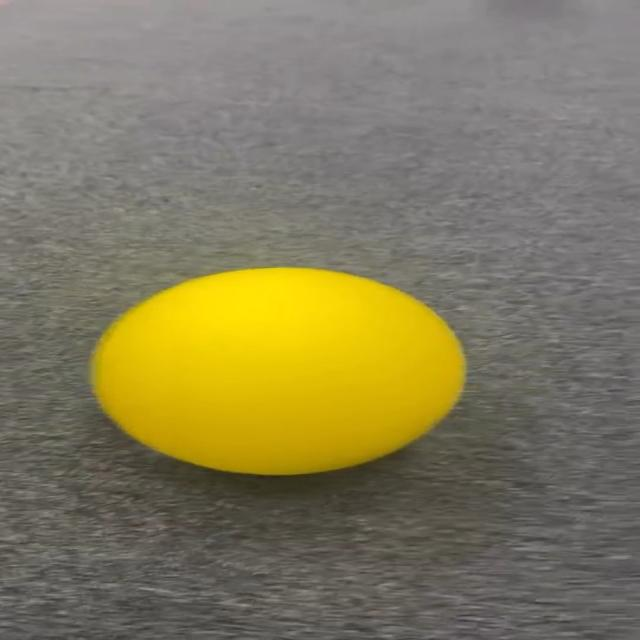Fuels: (93, 264, 461, 470)
